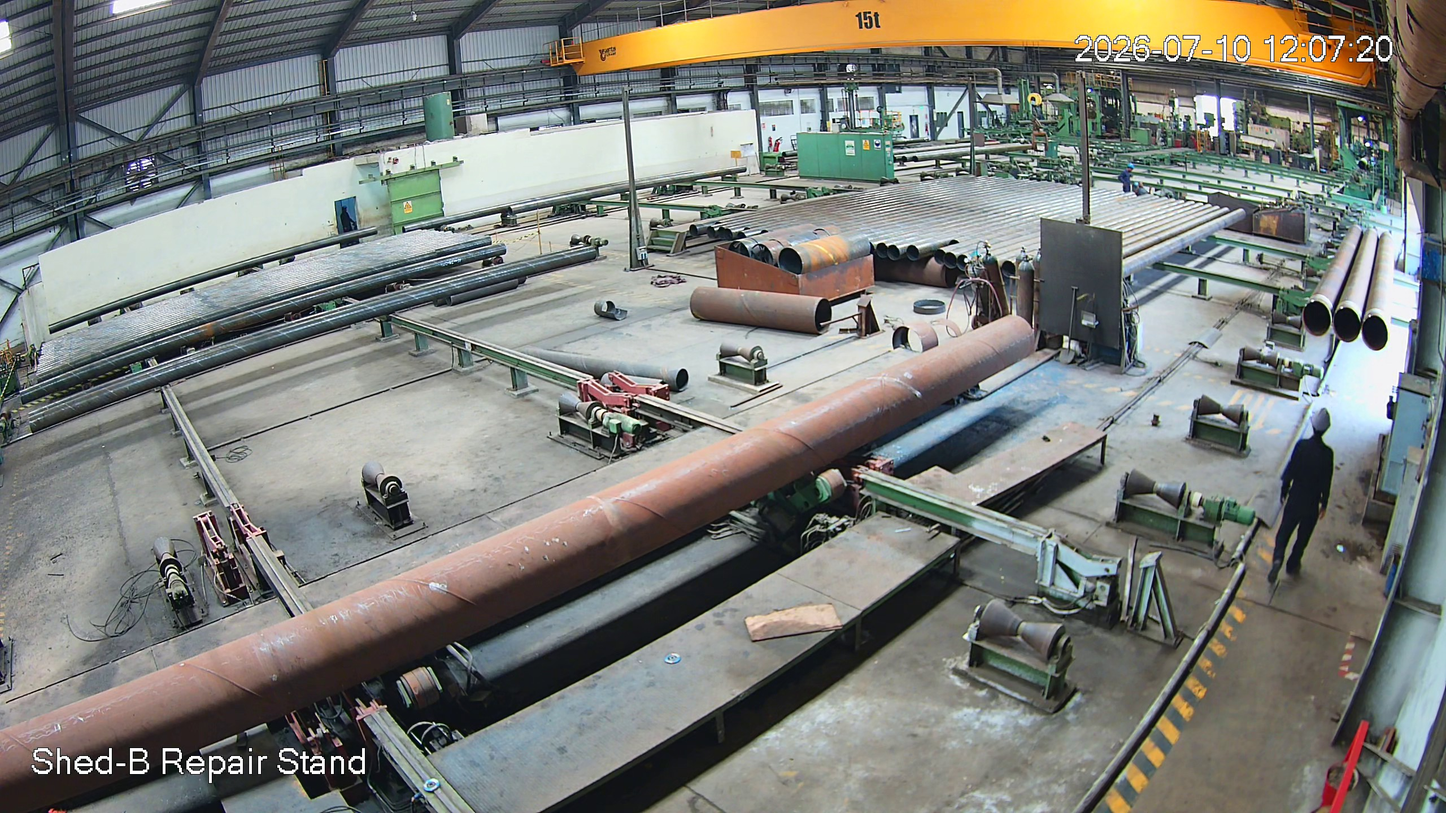Helmet: (1296, 401, 1341, 441)
Person: (1270, 408, 1341, 586)
